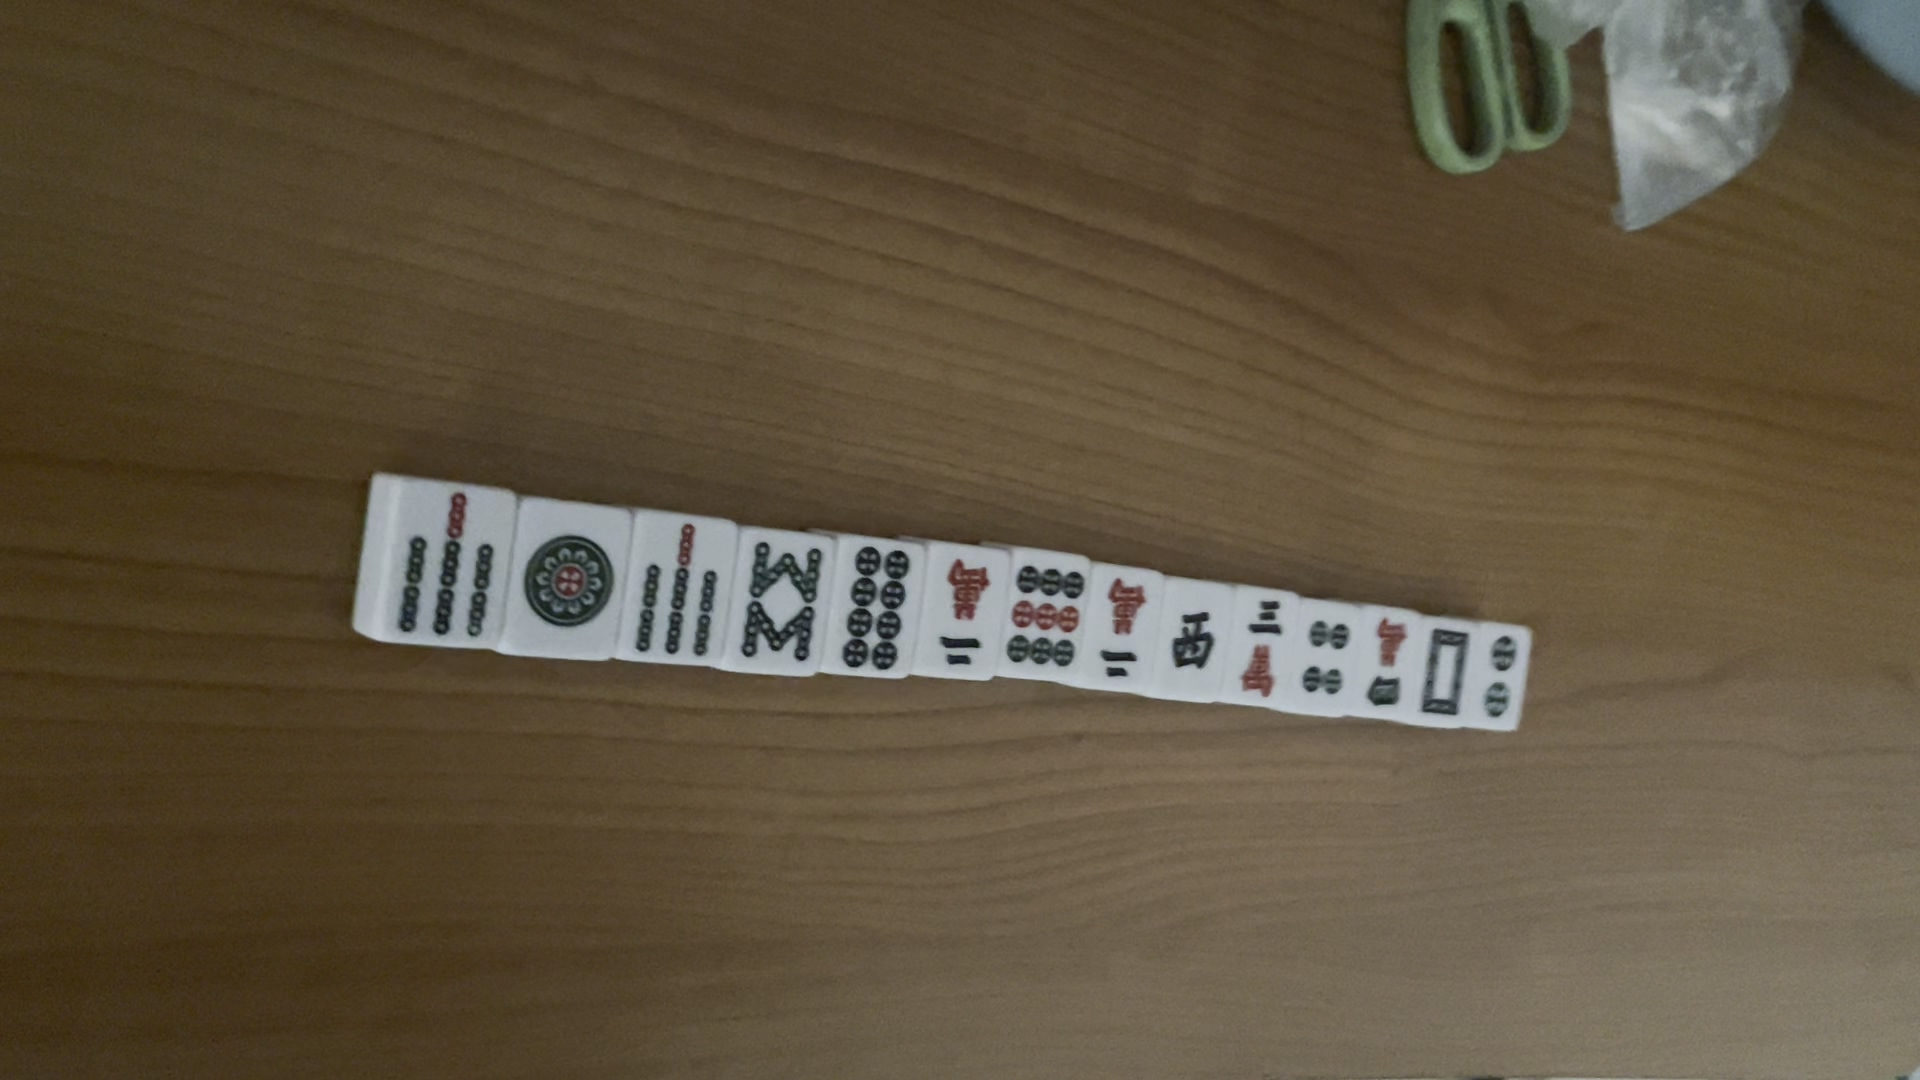b-7: (390, 489, 497, 644), (633, 524, 723, 659)
b-8: (736, 537, 825, 665)
c-2: (928, 556, 996, 673), (1095, 574, 1151, 688)
c-3: (1233, 593, 1291, 704)
c-4: (1367, 617, 1415, 712)
d-1: (520, 533, 618, 628)
d-2: (1477, 633, 1520, 727)
d-4: (1296, 615, 1357, 705)
d-8: (837, 543, 915, 673)
d-9: (1004, 560, 1089, 673)
hornors-west: (1170, 608, 1218, 680)
hornors-white: (1418, 622, 1473, 721)
